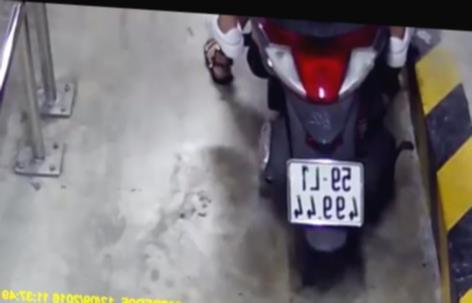License_Plate: (276, 150, 369, 238)
